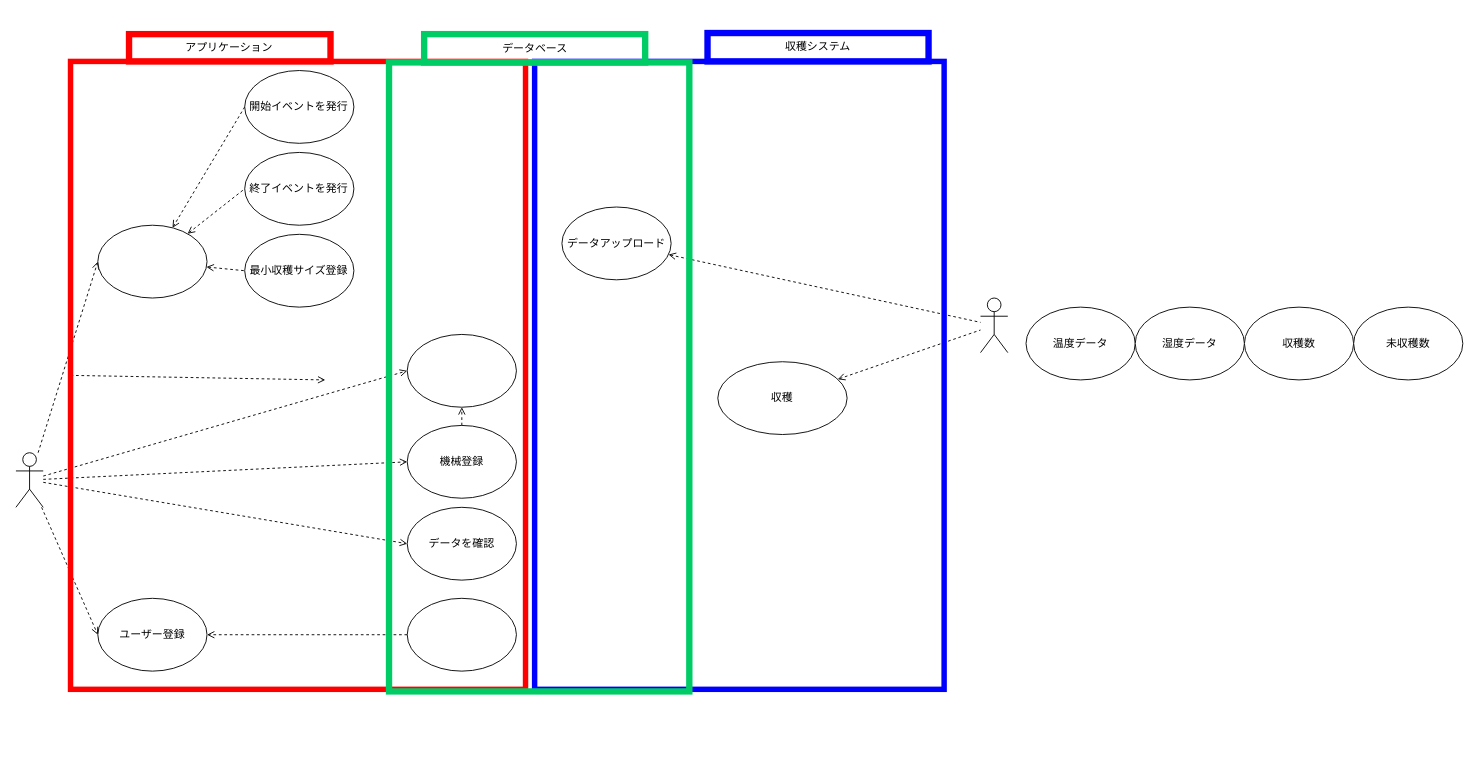
This 1479x777 diagram has some shape labels left out. Here are the shapes that lost their labels. From the top down, the centre of each, then its label:
[152,261]: 機械指示
[994,325]: 収穫機
[461,370]: 農耕地登録
[29,479]: 農家
[461,634]: ユーザー情報を登録する
